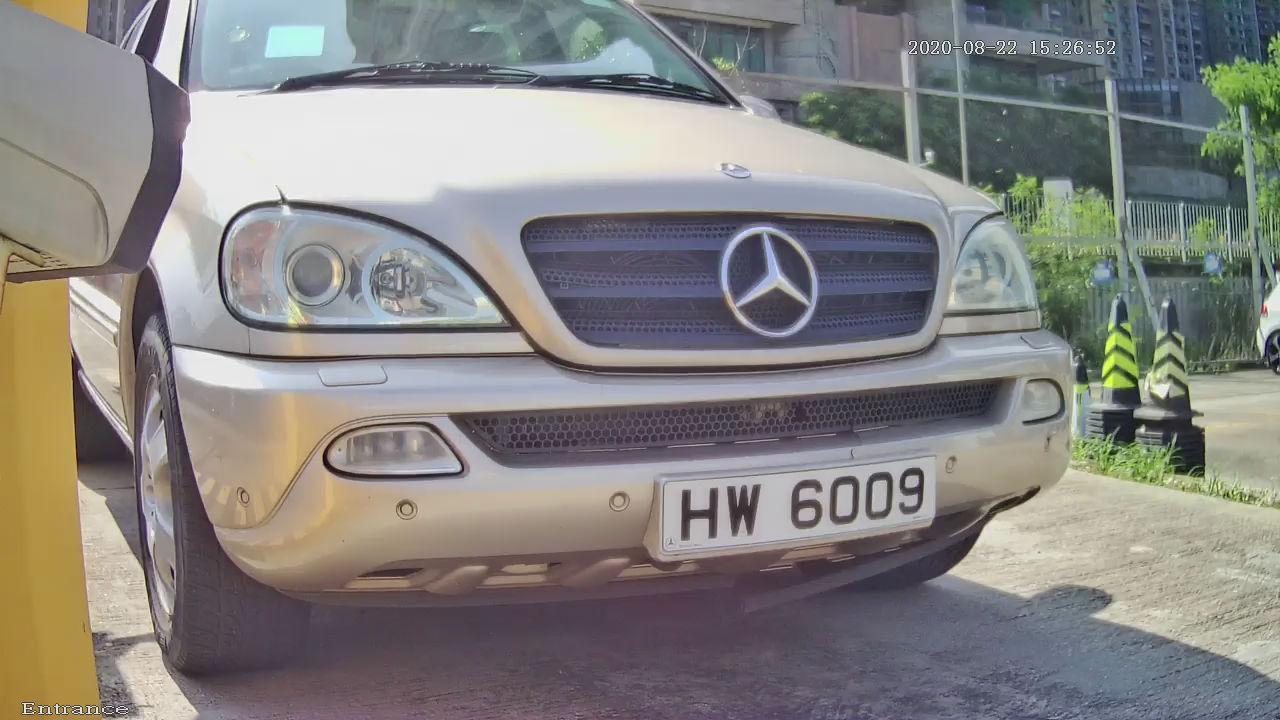License Plate: (624, 428, 980, 579)
